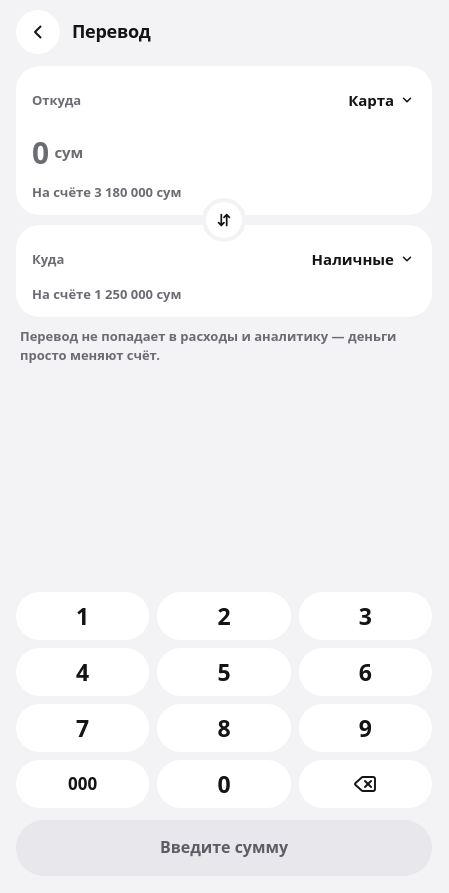
Test case: Transfer form › a failed save keeps the form with what was typed and says why
Click the button "5" at (224, 672), box [157,648,291,696]
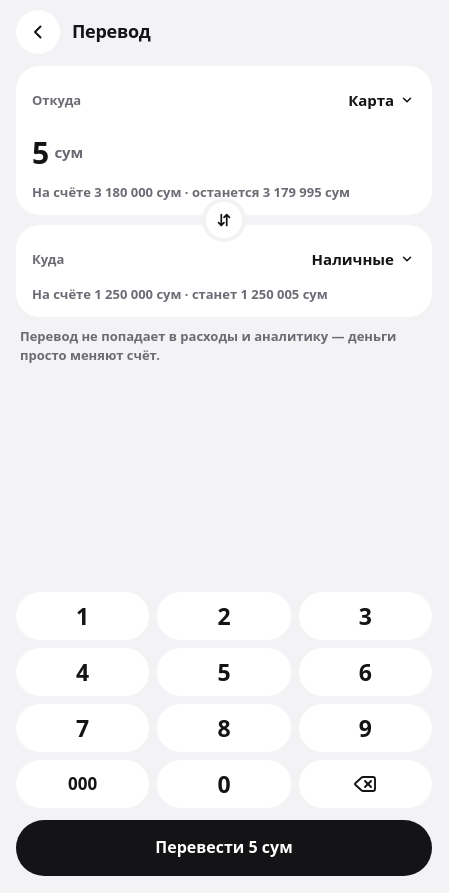
Click the button "Перевести 5 сум" at (224, 848), box [16,820,432,876]
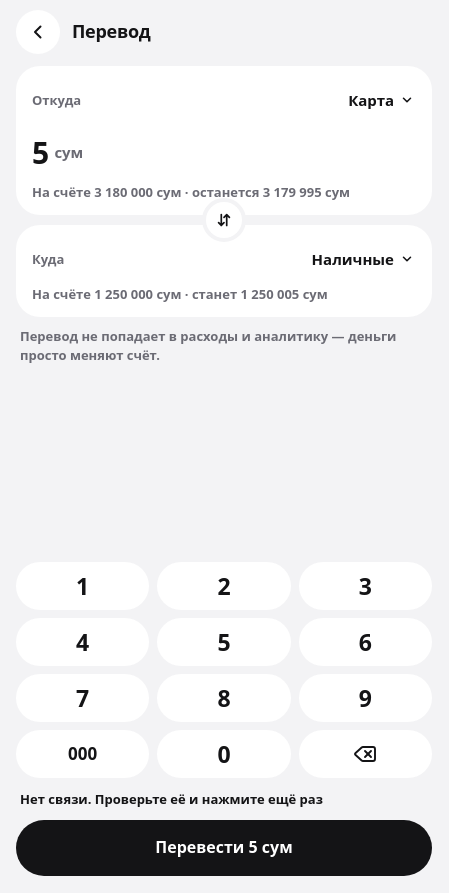
Check: the text "Нет связи. Проверьте её и нажмите ещё раз" is shown, box [20,790,323,808]
